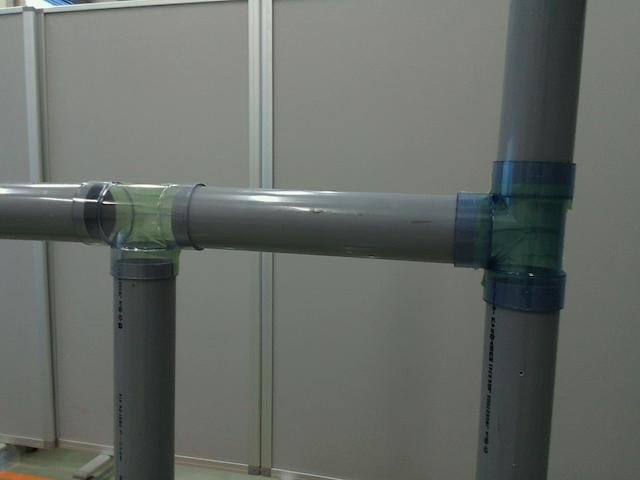junction: (455, 162, 579, 311), (74, 180, 208, 283)
